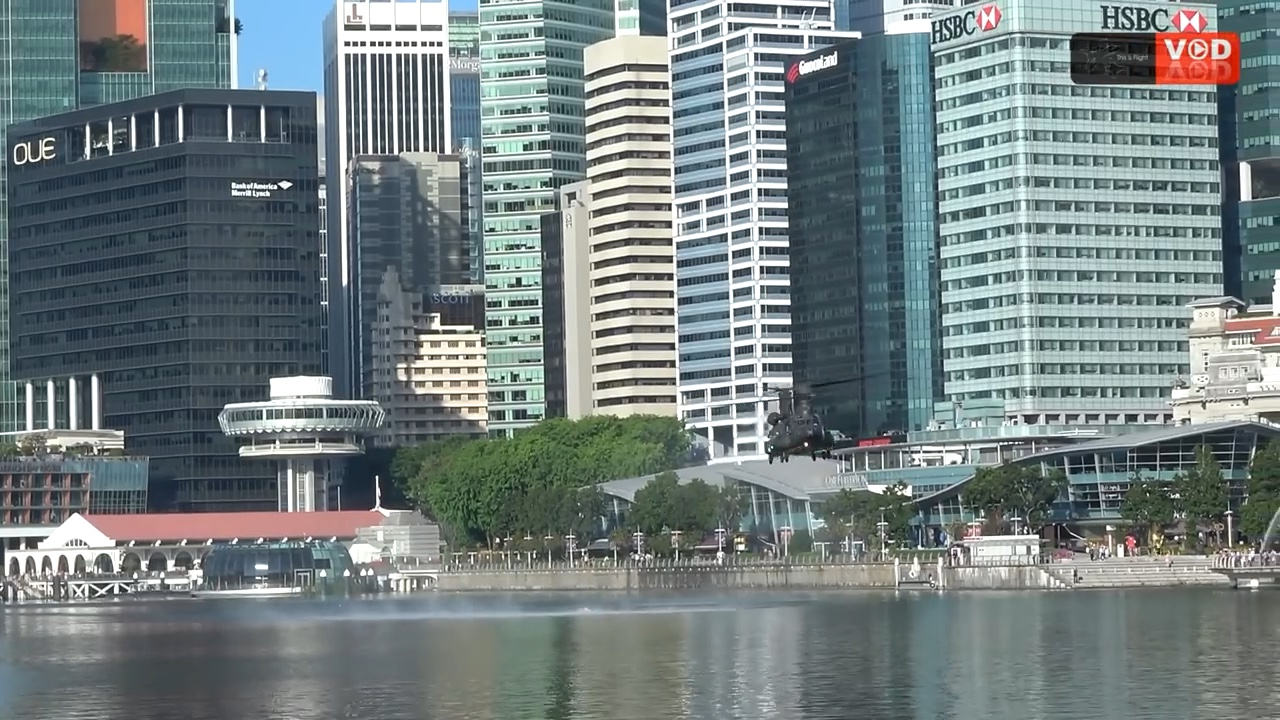chinook: (684, 368, 919, 466)
